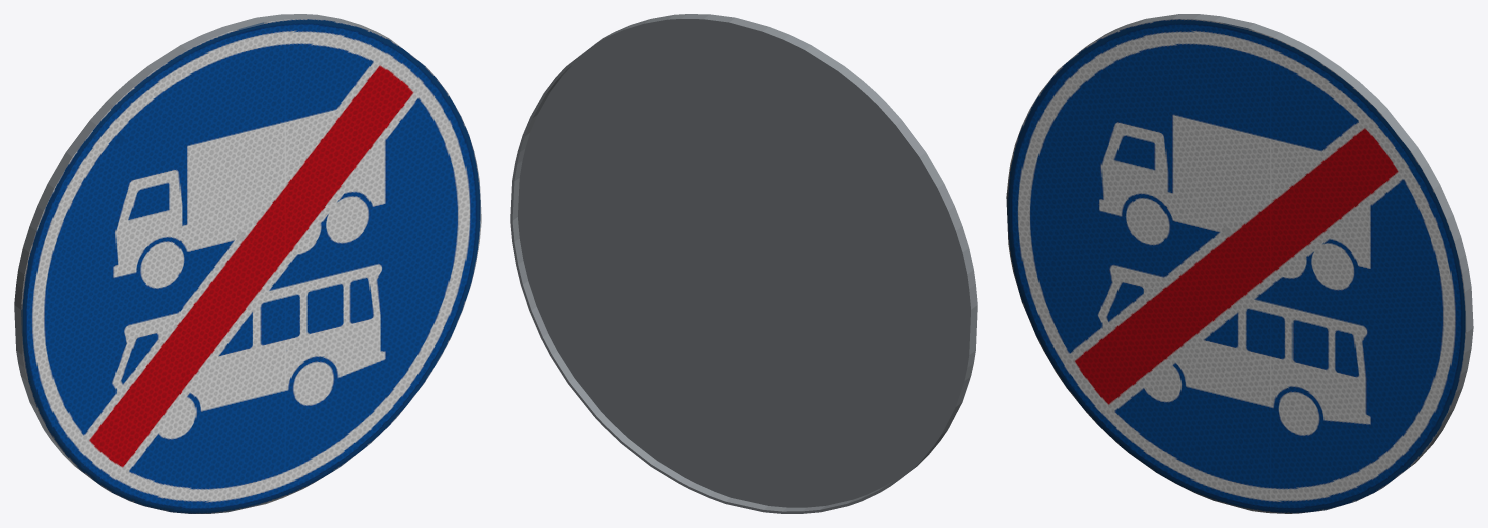
The picture shows the model from 3 angles, left to right: view 1: azimuth 30°, elevation 25°; view 2: azimuth 150°, elevation 25°; view 3: azimuth 330°, elevation 25°; orthographic projection.
Parts seen in each view (by area): view 1: cat_a49043e5ee6417e2; view 2: cat_a49043e5ee6417e2; view 3: cat_a49043e5ee6417e2.
Part boxes in pixels (x1,y1,x2,y2): cat_a49043e5ee6417e2: [14, 14, 481, 513]; cat_a49043e5ee6417e2: [510, 14, 977, 513]; cat_a49043e5ee6417e2: [1006, 14, 1473, 513].
Size of the model in its own units: 0.6 by 0.015 by 0.6.
Materials: 2 (1 with a texture image).
